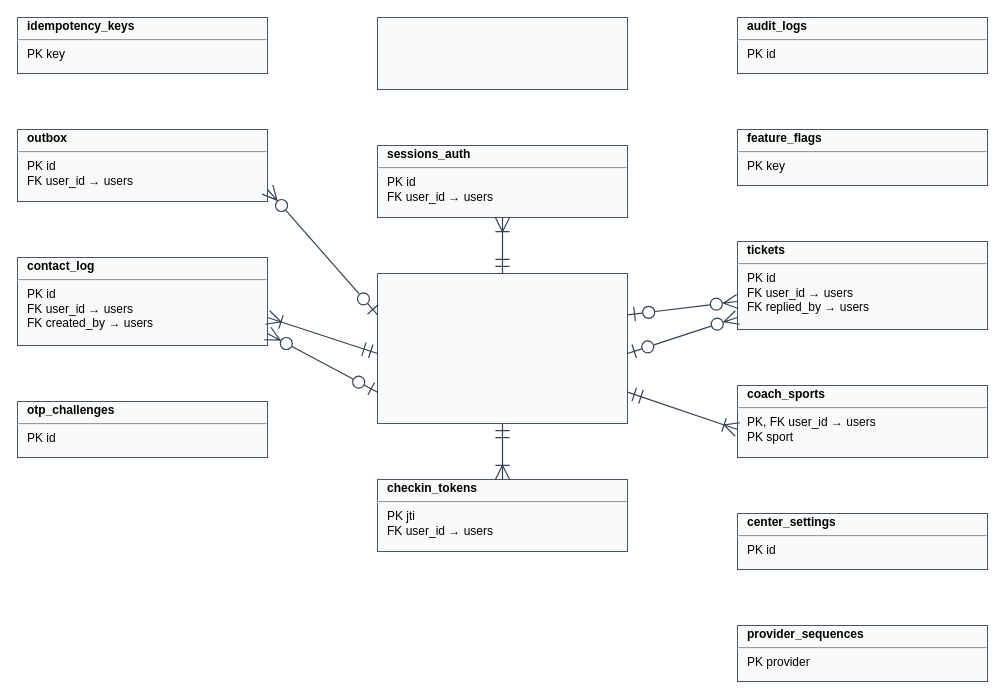
Image size: 1005x699. Some labels were removed from this diagram. Each missing label, with the box of its shape:
code_counters PK kind PK yyyy: (376, 16, 628, 90)
users PK id: (376, 272, 628, 424)
